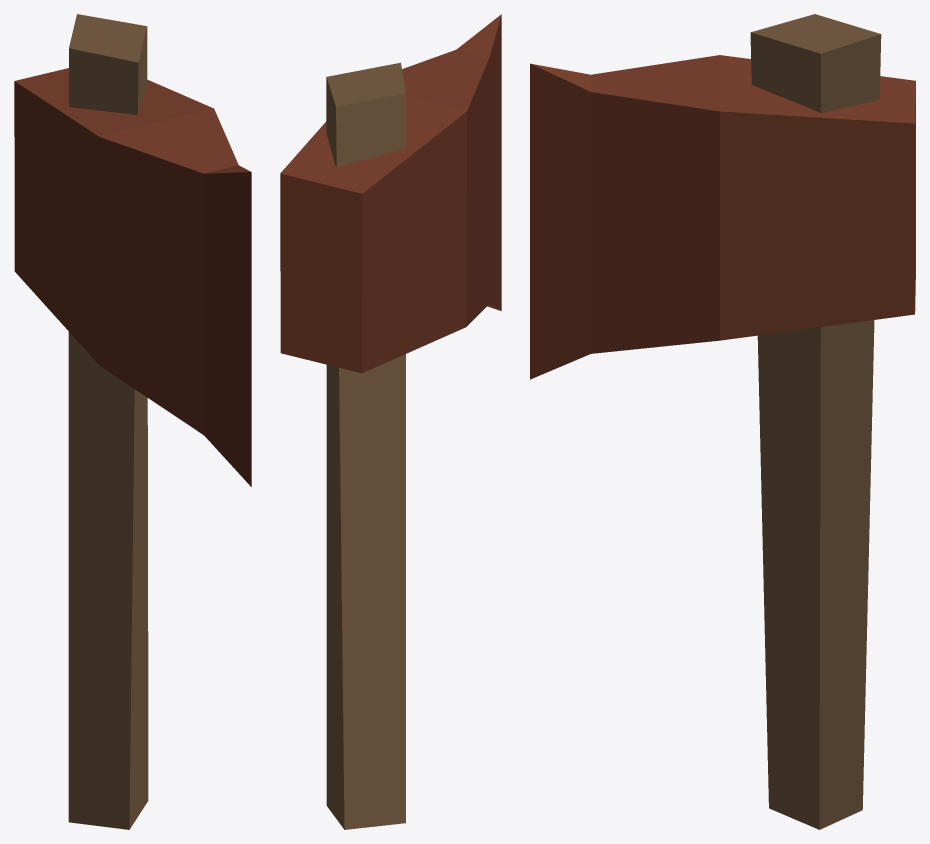
File: Item_Hatchet00.FBX
3 views of the same model, side by side, from view 1: azimuth 30°, elevation 25°; view 2: azimuth 150°, elevation 25°; view 3: azimuth 270°, elevation 25° (orthographic). The views are drawn at different scales.
Visible parts, largest first — view 1: Item_Hatchet00; view 2: Item_Hatchet00; view 3: Item_Hatchet00.
Boxes of the visible parts, <box> form: Item_Hatchet00: <box>14,14,251,829</box>; Item_Hatchet00: <box>280,14,501,829</box>; Item_Hatchet00: <box>530,14,915,829</box>.
Size of the model in its own units: 6.73 by 43.2 by 19.47.
